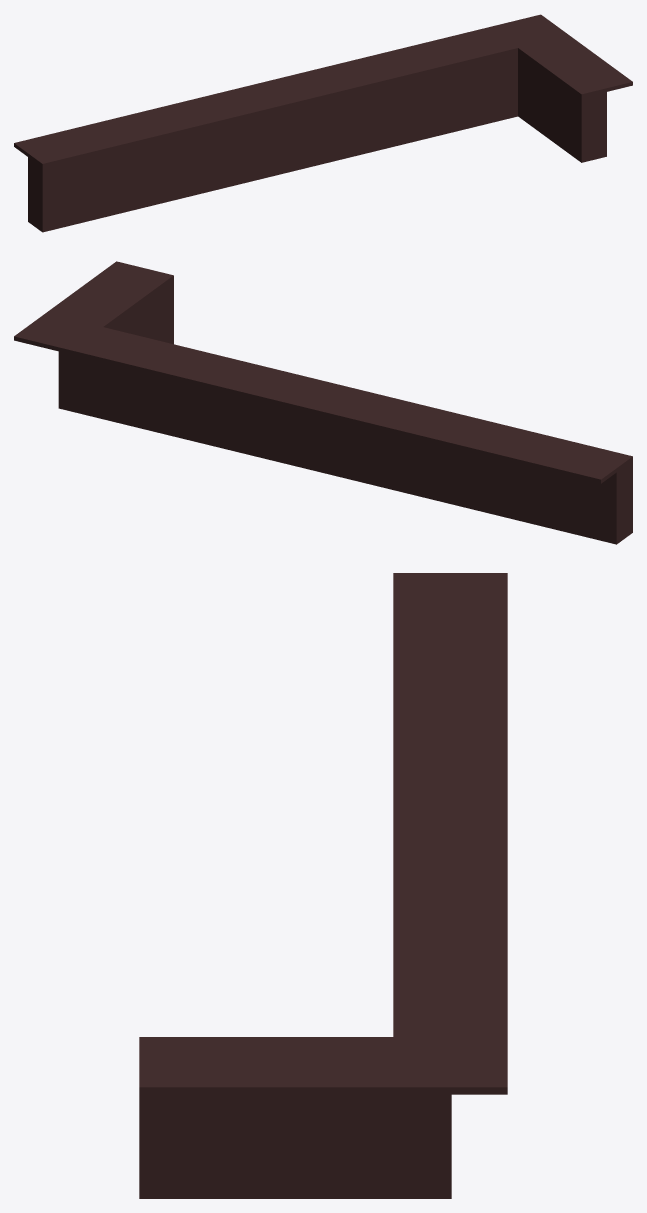
The model's file is Countermesh.fbx.
3 renders of one model, top to bottom at view 1: azimuth 30°, elevation 25°; view 2: azimuth 150°, elevation 25°; view 3: azimuth 270°, elevation 25°, orthographic. The views are drawn at different scales.
Visible parts, largest first — view 1: Countermesh; view 2: Countermesh; view 3: Countermesh.
Boxes of the visible parts, x1=… form: Countermesh: x1=14, y1=14, x2=632, y2=232; Countermesh: x1=14, y1=261, x2=632, y2=544; Countermesh: x1=139, y1=573, x2=507, y2=1198.
Bounding box in the file's own units: 632 × 78.58 × 191.
